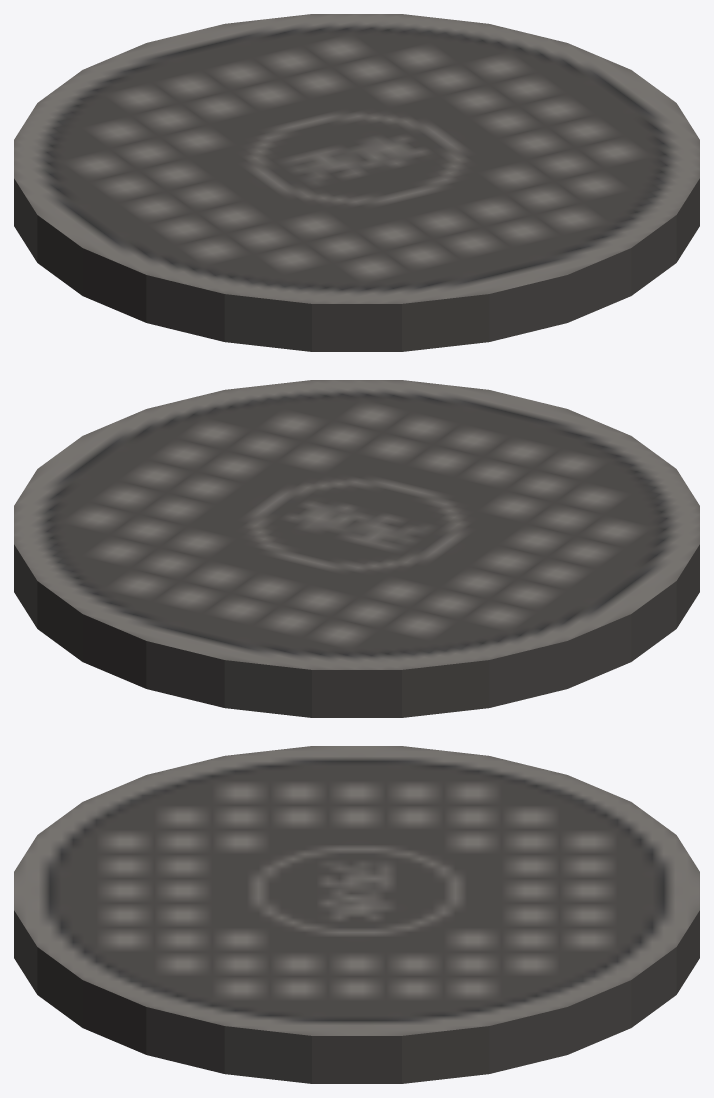
The model's file is SM_Ground_Manhole600_01.fbx.
The picture shows the model from 3 angles, top to bottom: view 1: azimuth 30°, elevation 25°; view 2: azimuth 150°, elevation 25°; view 3: azimuth 270°, elevation 25°; orthographic projection.
Parts seen in each view (by area): view 1: SM_Ground_Manhole600_01; view 2: SM_Ground_Manhole600_01; view 3: SM_Ground_Manhole600_01.
Part boxes in pixels (bbox=[...]): SM_Ground_Manhole600_01: bbox=[14, 14, 699, 351]; SM_Ground_Manhole600_01: bbox=[14, 380, 699, 717]; SM_Ground_Manhole600_01: bbox=[14, 746, 699, 1083].
Size of the model in its own units: 0.5949 by 0.046 by 0.5949.
1 material, 1 textured.
